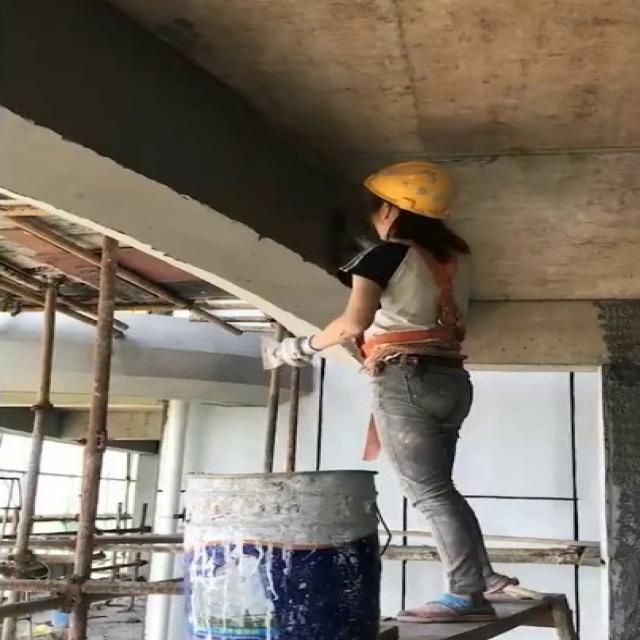Arnes_seguridad: (351, 227, 476, 354)
